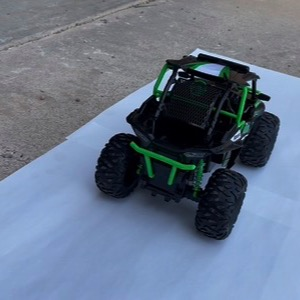polaris: (89, 52, 283, 243)
